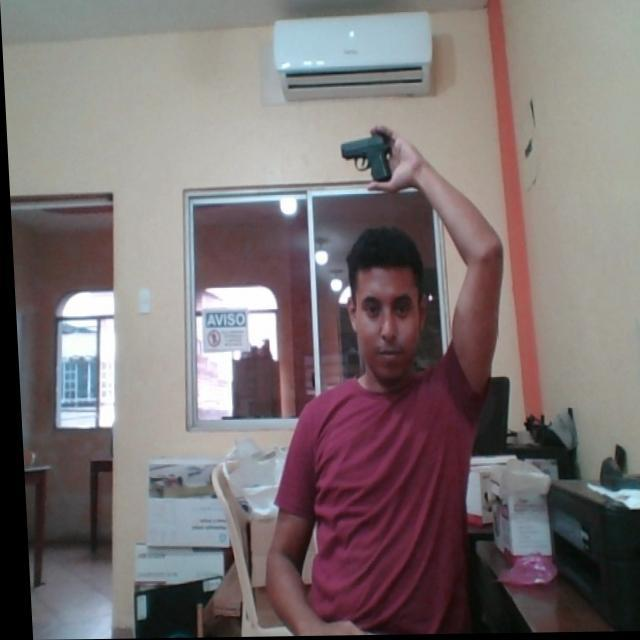weapon: (337, 132, 393, 186)
